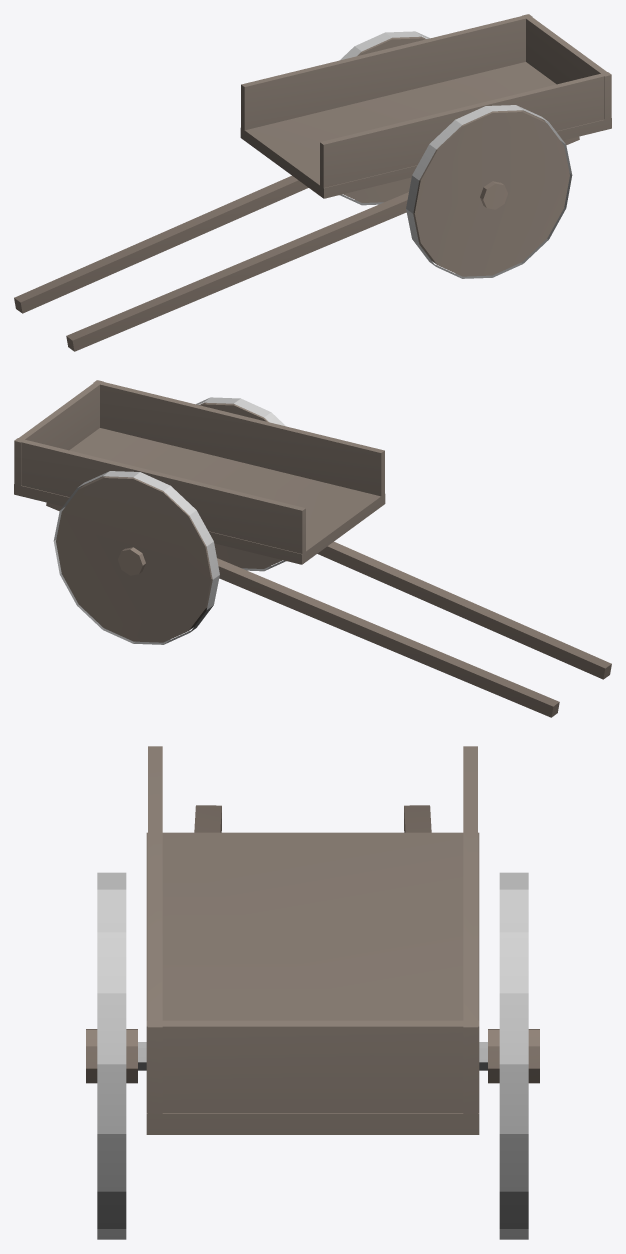
Rendered from cart_1.glb.
The picture shows the model from 3 angles, top to bottom: view 1: azimuth 30°, elevation 25°; view 2: azimuth 150°, elevation 25°; view 3: azimuth 270°, elevation 25°; orthographic projection. The views are drawn at different scales.
Parts seen in each view (by area): view 1: cart_1; view 2: cart_1; view 3: cart_1.
Part boxes in pixels (x1=…): cart_1: x1=14, y1=14, x2=611, y2=351; cart_1: x1=14, y1=380, x2=611, y2=717; cart_1: x1=86, y1=746, x2=539, y2=1239.
Size of the model in its own units: 4.21 by 1.27 by 1.57.
